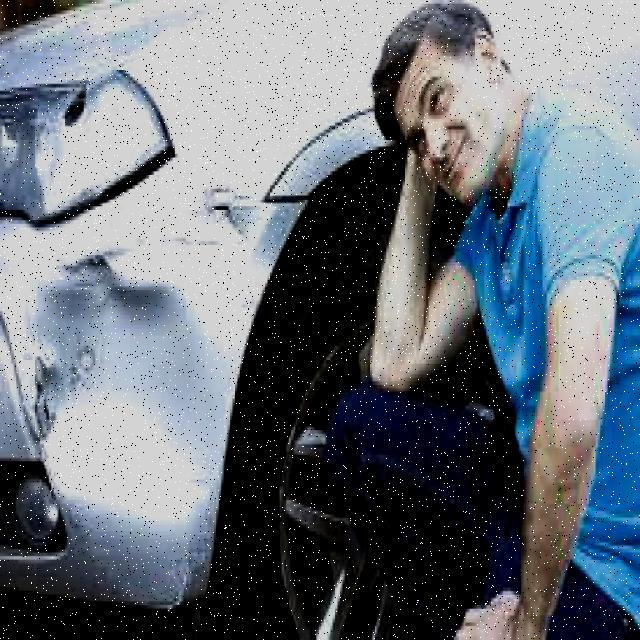car damage: (12, 152, 284, 612)
